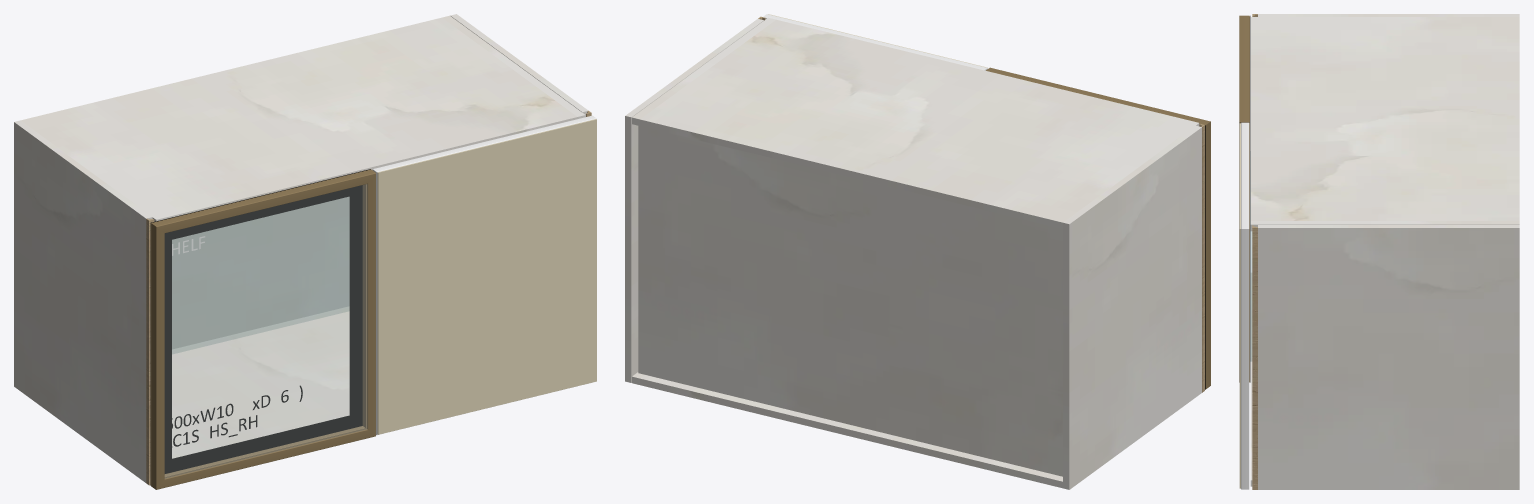
The model's file is WALL LOFT BLIND CABINET 1 SHELF (H600xW1050xD560) S450_WLBC1GS1GHS_RH.glb.
3 views of the same model, side by side, from view 1: azimuth 30°, elevation 25°; view 2: azimuth 150°, elevation 25°; view 3: azimuth 270°, elevation 25° (orthographic).
Size of what is drawn, in the model's own units: 1.05 by 0.6 by 0.582.
Materials: 10 (2 with a texture image).
